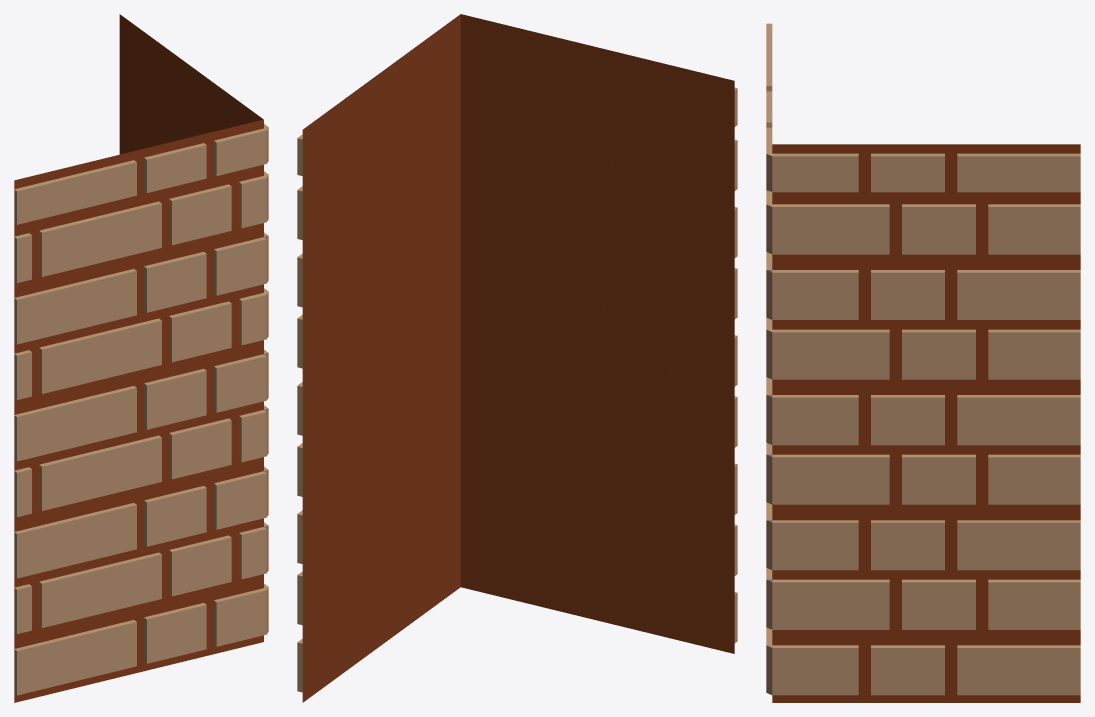
The model's file is Ext-BrickV1Corner.fbx.
3 views of the same model, side by side, from view 1: azimuth 30°, elevation 25°; view 2: azimuth 150°, elevation 25°; view 3: azimuth 270°, elevation 25° (orthographic). The views are drawn at different scales.
Visible parts, largest first — view 1: Ext-BrickV1Corner; view 2: Ext-BrickV1Corner; view 3: Ext-BrickV1Corner.
Part boxes in pixels (x1=…): Ext-BrickV1Corner: x1=14, y1=14, x2=268, y2=702; Ext-BrickV1Corner: x1=297, y1=14, x2=737, y2=702; Ext-BrickV1Corner: x1=766, y1=23, x2=1080, y2=702.
Bounding box in the file's own units: 102 × 200 × 102.
